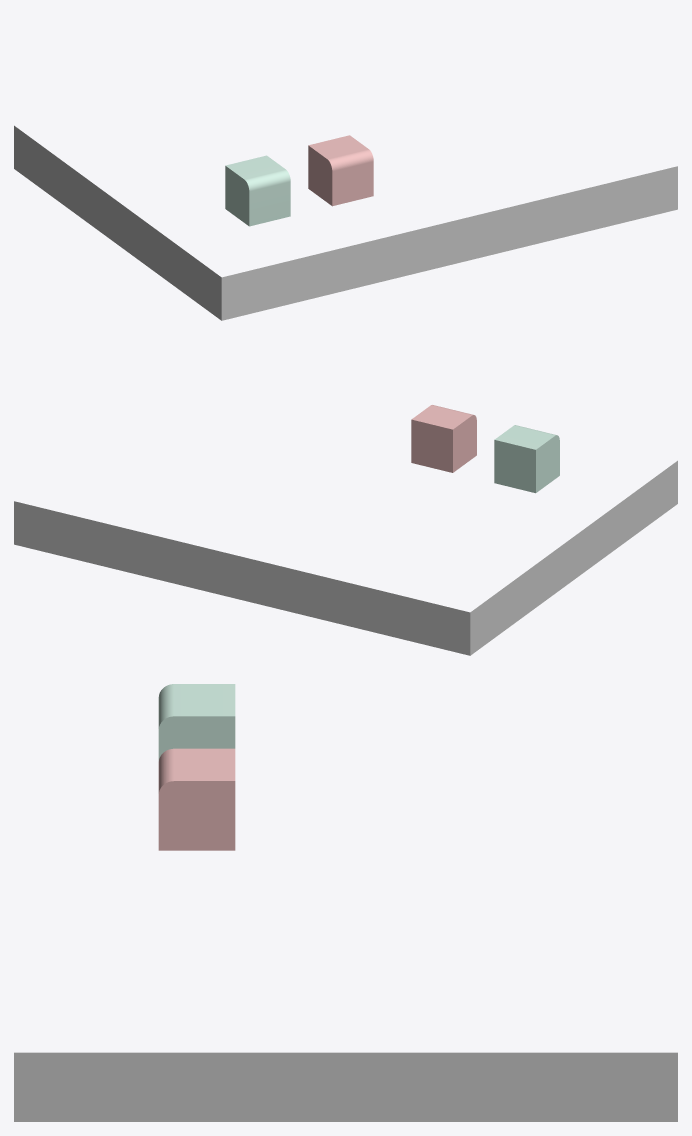
3 views of the same model, one above another, from view 1: azimuth 30°, elevation 25°; view 2: azimuth 150°, elevation 25°; view 3: azimuth 270°, elevation 25° (orthographic). The views are drawn at different scales.
Parts seen in each view (by area): view 1: Layer0::Material, Layer0::Material2, Layer0::Material1; view 2: Layer0::Material, Layer0::Material2, Layer0::Material1; view 3: Layer0::Material, Layer0::Material1, Layer0::Material2.
Part boxes in pixels (bbox=[...]): Layer0::Material: bbox=[14, 125, 677, 320]; Layer0::Material2: bbox=[225, 155, 290, 226]; Layer0::Material1: bbox=[308, 135, 373, 206]; Layer0::Material: bbox=[14, 460, 677, 655]; Layer0::Material2: bbox=[494, 425, 559, 493]; Layer0::Material1: bbox=[411, 405, 476, 472]; Layer0::Material: bbox=[14, 1052, 677, 1121]; Layer0::Material1: bbox=[158, 748, 235, 850]; Layer0::Material2: bbox=[158, 684, 235, 760].
Bounding box in the file's own units: 11 × 2 × 8.67.
